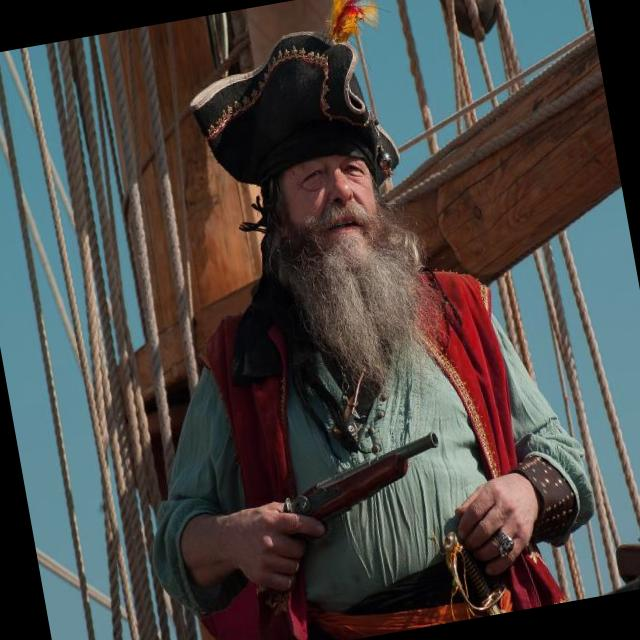Gun: (284, 433, 438, 520)
